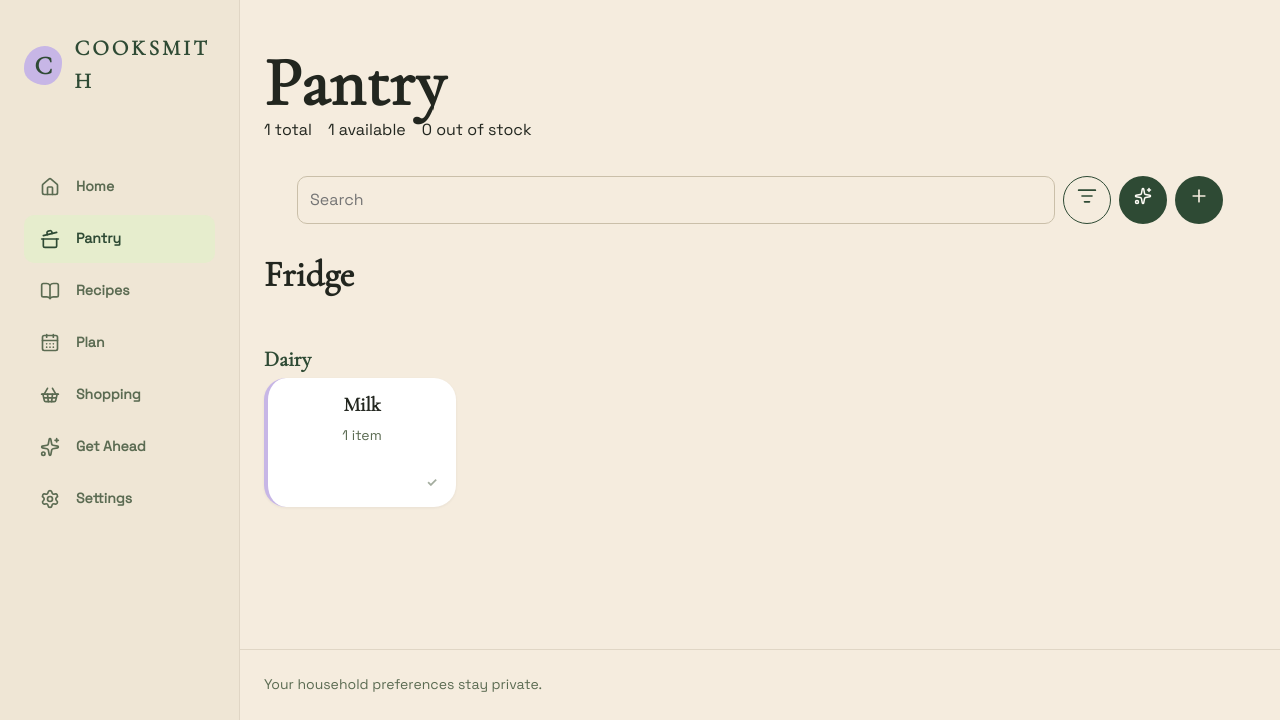
Test case: household staples experience › opens compact pantry suggestions and adds without a confirmation click
Click the button named "Review pantry suggestions" at {"x": 1143, "y": 200}, box x1=1119 y1=176 x2=1167 y2=224
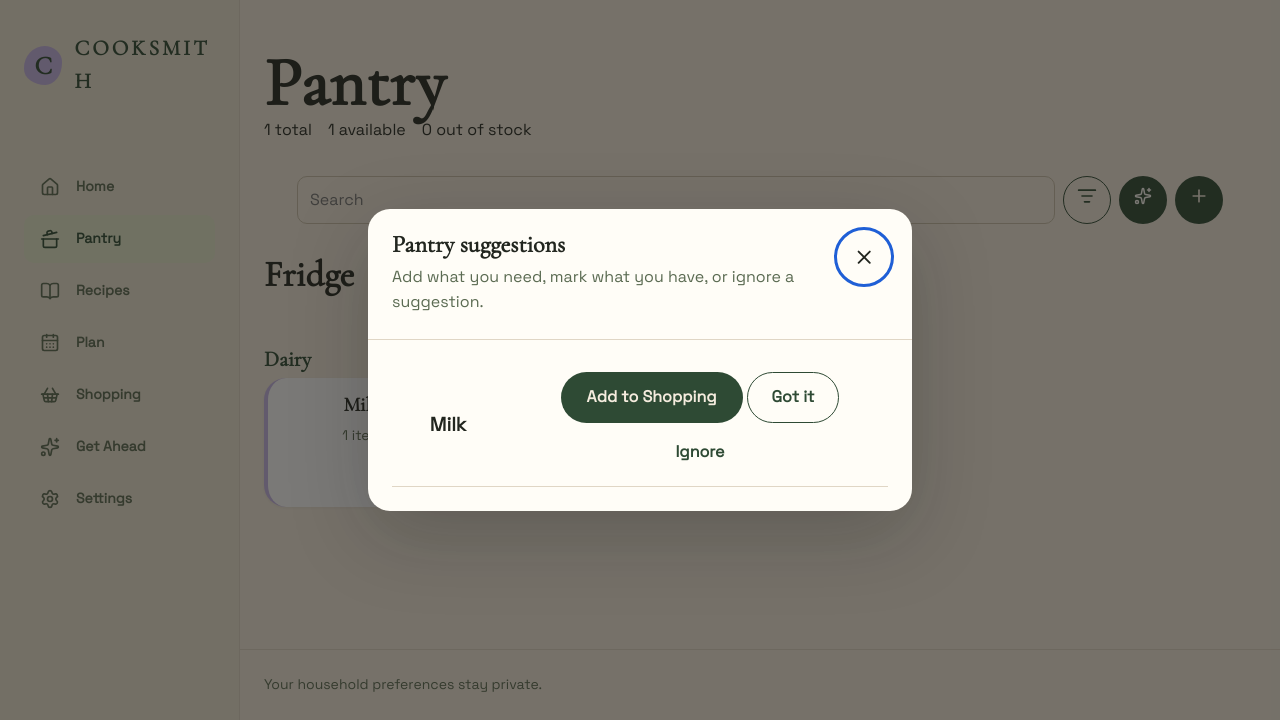
Expected: the text "Milk" is shown, x1=430 y1=412 x2=466 y2=437
Expected: the button "Got it" is shown, x1=746 y1=372 x2=839 y2=423
Expected: the button "Ignore" is shown, x1=650 y1=427 x2=751 y2=478
Click the button "Add to Shopping" at {"x": 652, "y": 398}, box x1=561 y1=372 x2=743 y2=423
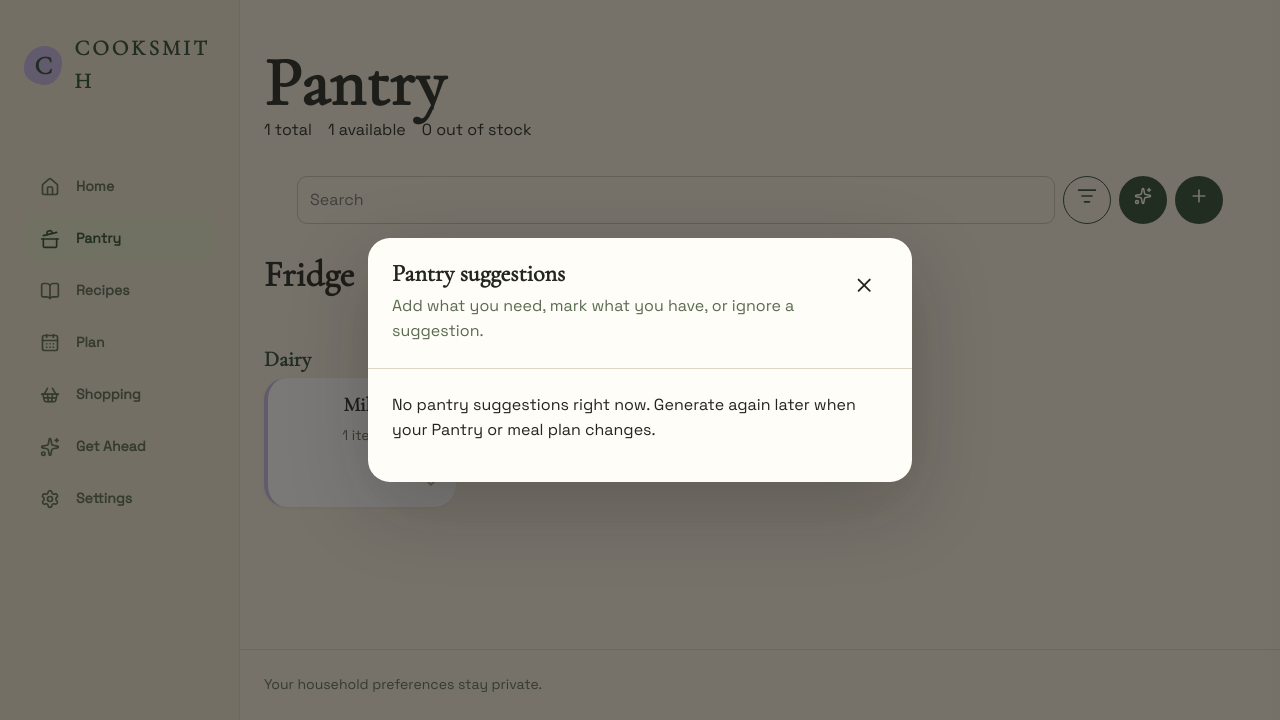
Expected: the text "No pantry suggestions right now" is shown, x1=392 y1=394 x2=856 y2=440
